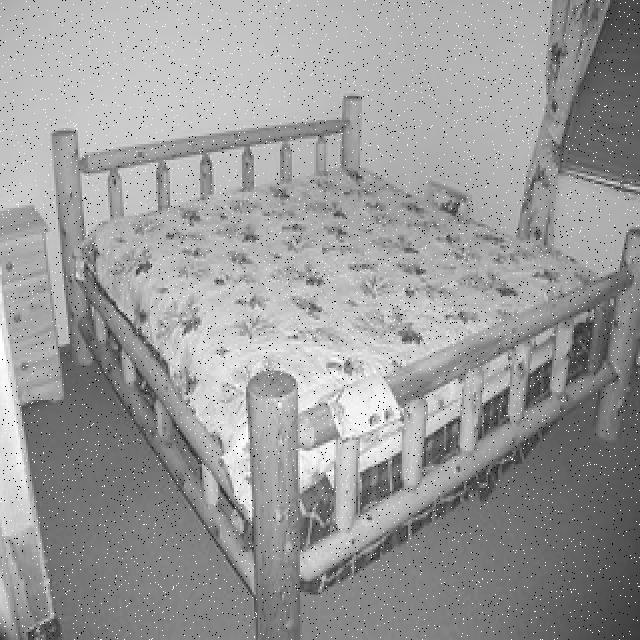bed: (39, 89, 635, 555)
